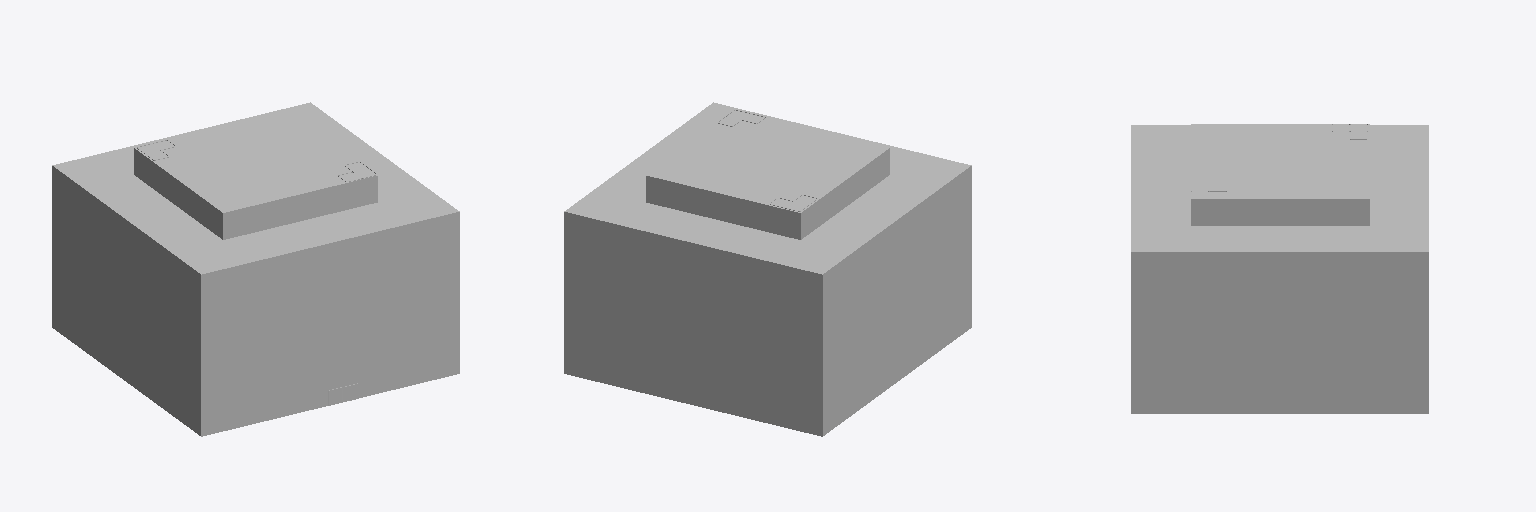
Rendered from szobaobj.obj.
The picture shows the model from 3 angles: view 1: azimuth 30°, elevation 25°; view 2: azimuth 150°, elevation 25°; view 3: azimuth 270°, elevation 25°; orthographic projection.
Visible parts, largest first — view 1: char_lab_cubeRoomEnv; view 2: char_lab_cubeRoomEnv; view 3: char_lab_cubeRoomEnv.
Part boxes in pixels (x1,y1,x2,y2): char_lab_cubeRoomEnv: (52, 102, 459, 436); char_lab_cubeRoomEnv: (564, 102, 971, 436); char_lab_cubeRoomEnv: (1131, 124, 1428, 413).
Size of the model in its own units: 10 by 7.03 by 10.